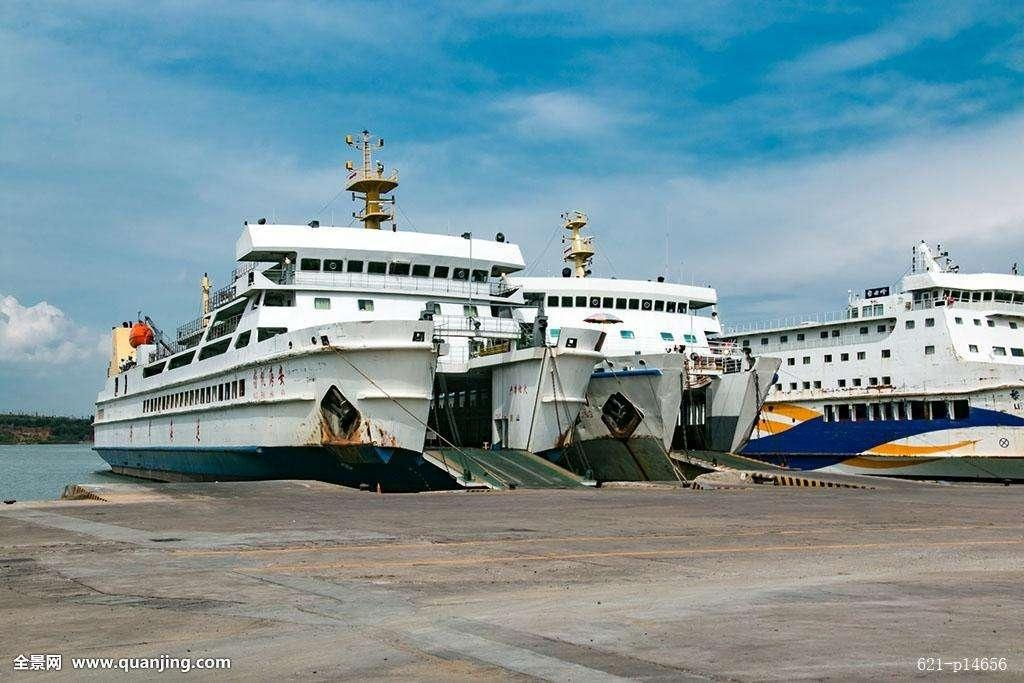otherboat: (77, 155, 774, 473)
youlun: (671, 236, 1024, 469)
